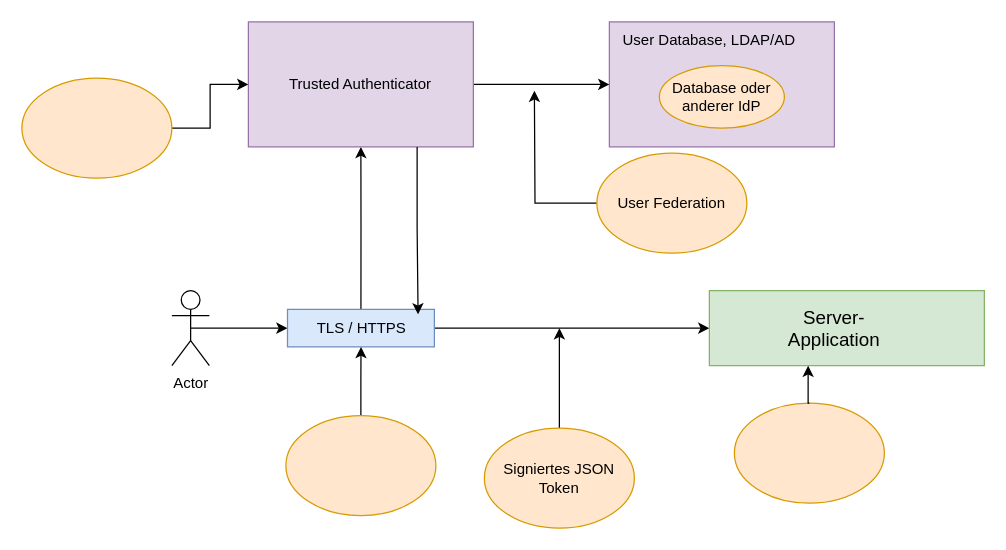
This 1006x550 diagram has some shape labels left out. The shapes that lost their labels are listed below. From the top down, each one's centre as x and y in pixels, then its label:
(x=96, y=127): Identity Provider
(x=360, y=465): Pflicht durch RFC-Standard
(x=808, y=452): Relying Party
